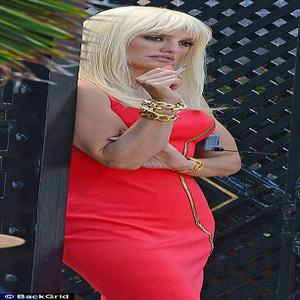cigarette: (176, 63, 190, 74)
